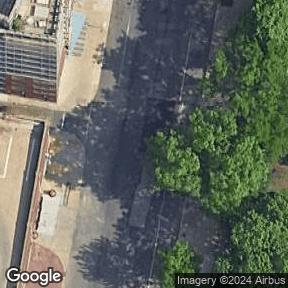vegetation: (154, 0, 288, 272), (157, 238, 202, 288)
